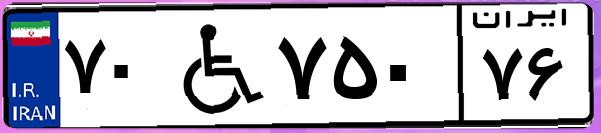0: (385, 28, 445, 110), (110, 28, 158, 98)
5: (330, 28, 385, 110)
6: (525, 38, 570, 115)
7: (270, 28, 330, 110), (57, 26, 110, 100), (475, 38, 525, 113)
ژ (معلولین و جانبازان): (158, 12, 270, 120)
